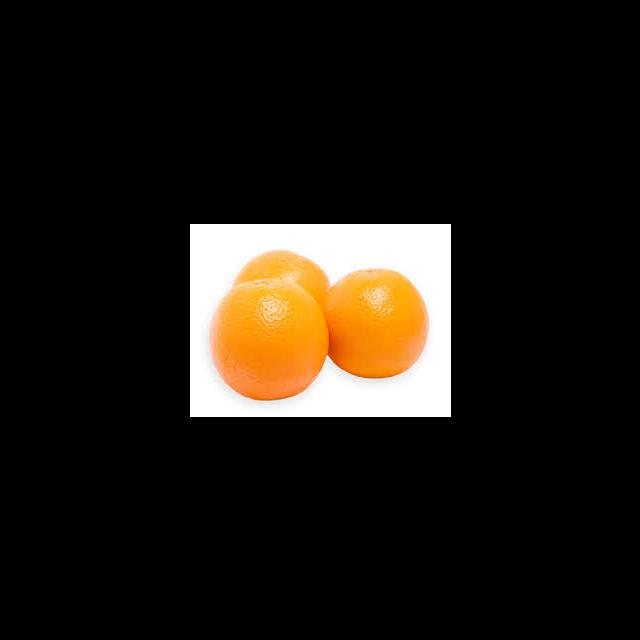orange: (206, 268, 326, 410), (319, 254, 439, 383), (226, 246, 332, 343)
